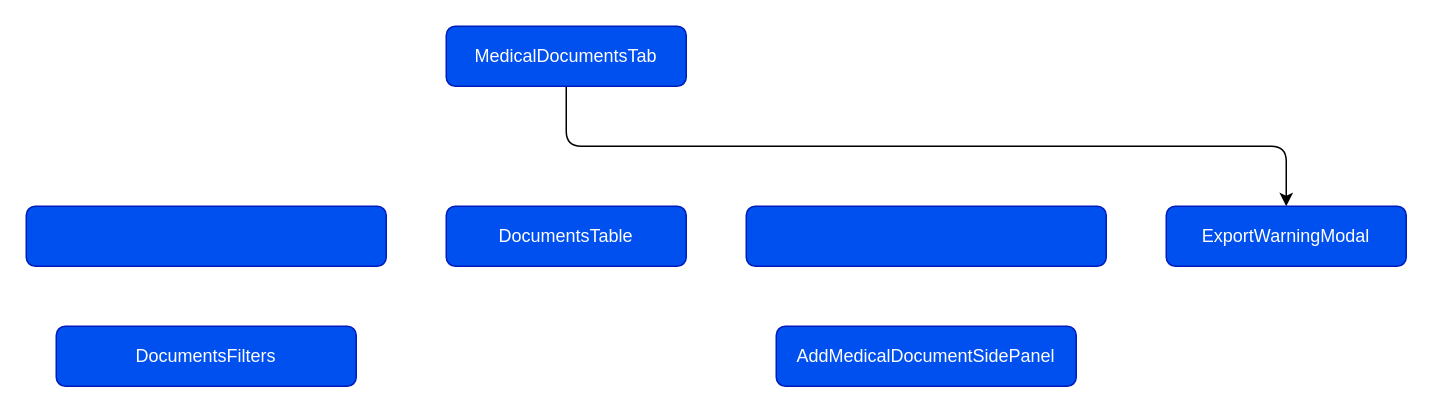
Some shapes in this 1433 by 413 pixel diagram are drawn without their labels. The box of each missing label's shape, as (x1, y1, x2, y2) in pixels:
AddMedicalDocumentSidePanelContainer: (745, 205, 1106, 266)
DocumentsFiltersContainer: (25, 205, 386, 266)
